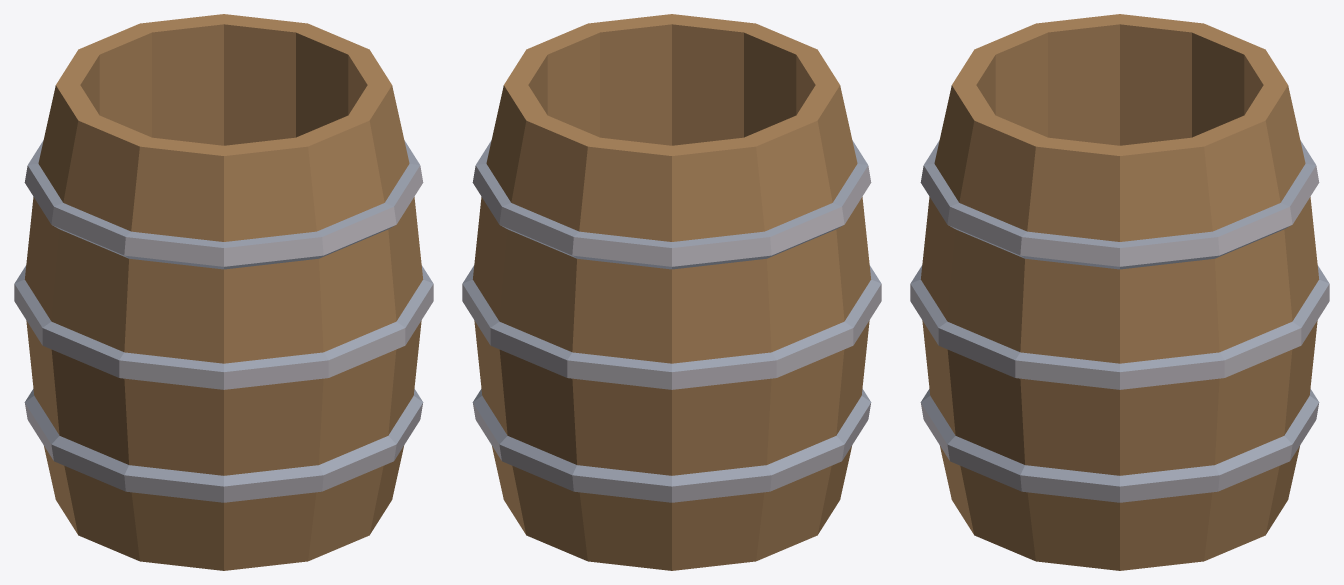
The model's file is barrel_empty.glb.
3 views of the same model, side by side, from view 1: azimuth 30°, elevation 25°; view 2: azimuth 150°, elevation 25°; view 3: azimuth 270°, elevation 25° (orthographic).
Parts seen in each view (by area): view 1: barrel_empty; view 2: barrel_empty; view 3: barrel_empty.
Boxes of the visible parts, <box> form: barrel_empty: <box>14,14,433,570</box>; barrel_empty: <box>462,14,881,570</box>; barrel_empty: <box>910,14,1329,570</box>.
Bounding box in the file's own units: 3.8 × 4.15 × 3.8.
Materials: 1 (1 with a texture image).
